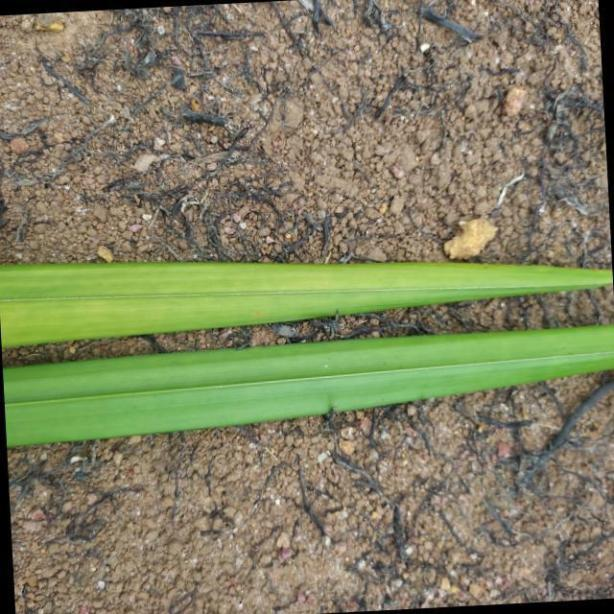nitrogen: (0, 259, 614, 445)
